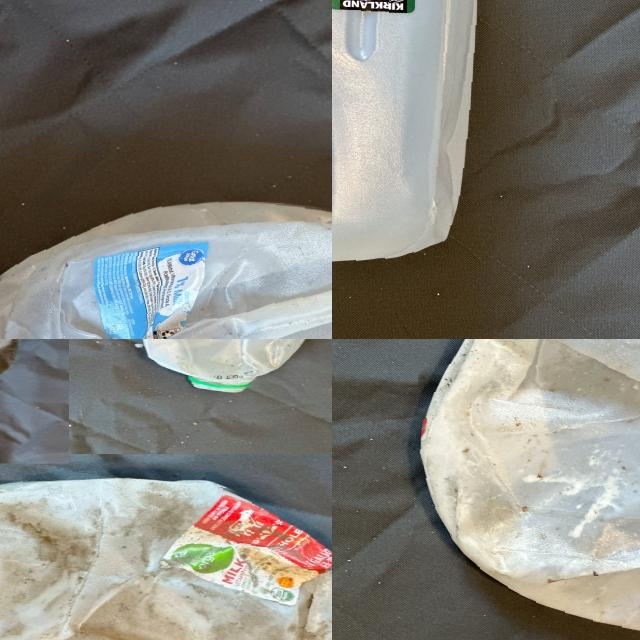milk-jug: (412, 339, 640, 640), (0, 477, 332, 640), (0, 197, 332, 339), (332, 0, 496, 269), (131, 339, 321, 394)
